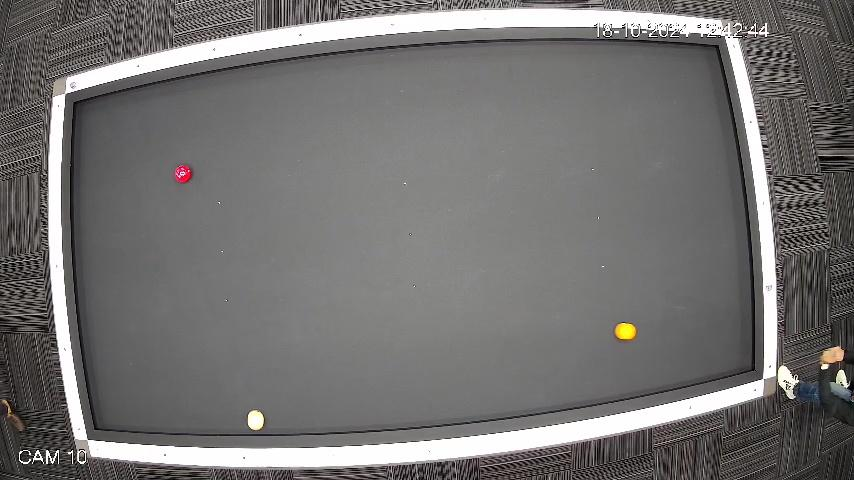Red: (173, 164, 192, 184)
White: (246, 408, 266, 432)
Yellow: (612, 322, 638, 342)
